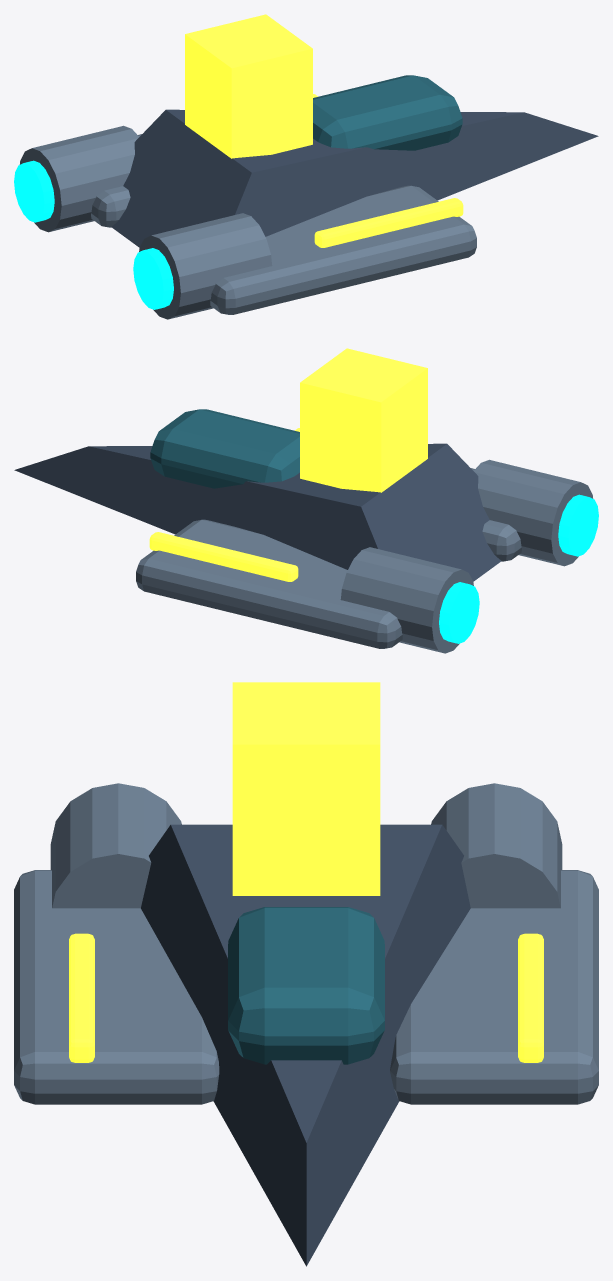
Rendered from ShuttleLime.fbx.
3 views of the same model, one above another, from view 1: azimuth 30°, elevation 25°; view 2: azimuth 150°, elevation 25°; view 3: azimuth 270°, elevation 25° (orthographic). The views are drawn at different scales.
Visible parts, largest first — view 1: Cargo shuttle hull.001, Cargo crystal.001, Swept wing.002, Cockpit.001, Ion engine.002, Ion engine.003, Cargo stripe.002, Ion exhaust.002, Ion exhaust.003, Swept wing.003; view 2: Cargo shuttle hull.001, Cargo crystal.001, Swept wing.003, Cockpit.001, Ion engine.003, Ion engine.002, Cargo stripe.003, Ion exhaust.003, Ion exhaust.002, Swept wing.002; view 3: Cargo shuttle hull.001, Swept wing.003, Swept wing.002, Cargo crystal.001, Cockpit.001, Ion engine.003, Ion engine.002, Cargo stripe.002, Cargo stripe.003.
Boxes of the visible parts, x1,y1,x2,y2 form: Cargo shuttle hull.001: [111, 109, 598, 247]; Cargo crystal.001: [185, 14, 312, 158]; Swept wing.002: [210, 185, 476, 314]; Cockpit.001: [313, 75, 462, 150]; Ion engine.002: [139, 213, 272, 319]; Ion engine.003: [19, 125, 138, 232]; Cargo stripe.002: [314, 198, 463, 247]; Ion exhaust.002: [133, 248, 173, 309]; Ion exhaust.003: [14, 160, 54, 222]; Swept wing.003: [91, 134, 141, 227]; Cargo shuttle hull.001: [14, 443, 501, 581]; Cargo crystal.001: [300, 348, 427, 492]; Swept wing.003: [136, 519, 402, 648]; Cockpit.001: [150, 409, 299, 488]; Ion engine.003: [340, 547, 473, 653]; Ion engine.002: [474, 459, 593, 566]; Cargo stripe.003: [149, 532, 298, 581]; Ion exhaust.003: [439, 582, 479, 643]; Ion exhaust.002: [558, 494, 598, 556]; Swept wing.002: [471, 468, 521, 561]; Cargo shuttle hull.001: [141, 824, 470, 1266]; Swept wing.003: [390, 870, 598, 1104]; Swept wing.002: [14, 870, 219, 1104]; Cargo crystal.001: [232, 682, 380, 895]; Cockpit.001: [228, 907, 384, 1064]; Ion engine.003: [431, 783, 562, 908]; Ion engine.002: [50, 783, 181, 908]; Cargo stripe.002: [69, 933, 94, 1062]; Cargo stripe.003: [518, 933, 543, 1062].
Bounding box in the file's own units: 88.9 × 32.5 × 56.
